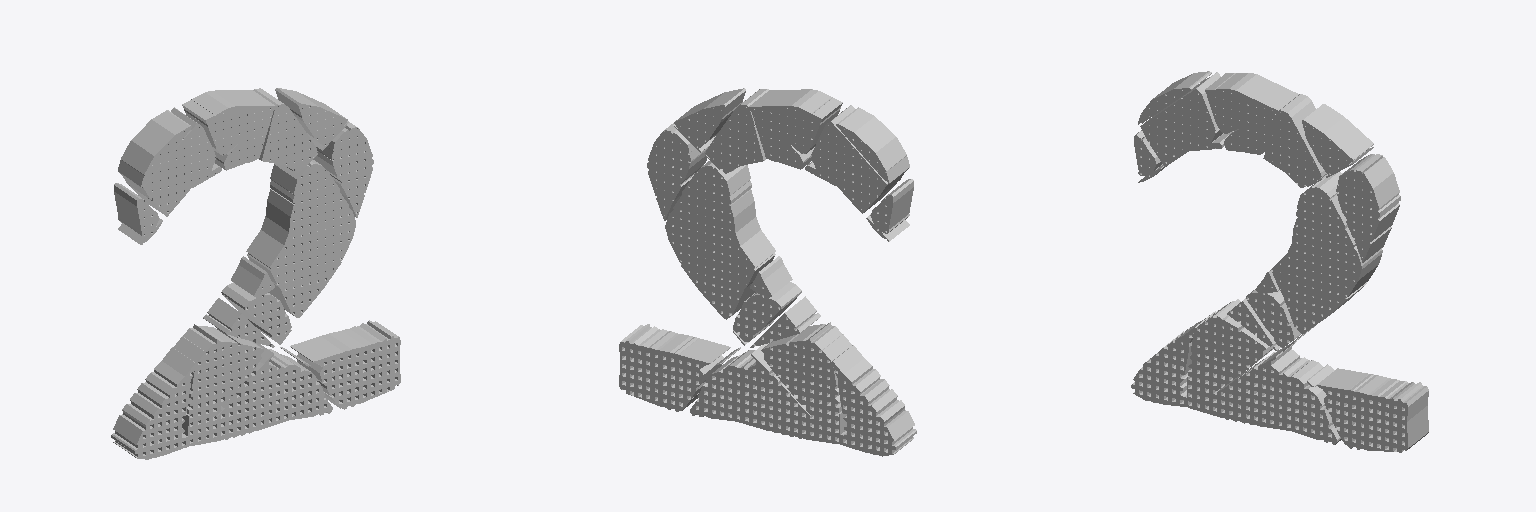
File: 2_naranja.obj
3 renders of one model, left to right at view 1: azimuth 30°, elevation 25°; view 2: azimuth 150°, elevation 25°; view 3: azimuth 330°, elevation 25°, orthographic.
Visible parts, largest first — view 1: Mesh10 G_2_1 Model, Mesh7 G_2_1 Model, Mesh1 G_2_1 Model, Mesh13 G_2_1 Model, Mesh2 G_2_1 Model, Mesh8 G_2_1 Model, Mesh5 G_2_1 Model, Mesh3 G_2_1 Model, Mesh4 G_2_1 Model, Mesh6 G_2_1 Model, Mesh9 G_2_1 Model; view 2: Mesh10 G_2_1 Model, Mesh7 G_2_1 Model, Mesh1 G_2_1 Model, Mesh13 G_2_1 Model, Mesh2 G_2_1 Model, Mesh5 G_2_1 Model, Mesh8 G_2_1 Model, Mesh3 G_2_1 Model, Mesh4 G_2_1 Model, Mesh6 G_2_1 Model, Mesh9 G_2_1 Model; view 3: Mesh10 G_2_1 Model, Mesh7 G_2_1 Model, Mesh1 G_2_1 Model, Mesh13 G_2_1 Model, Mesh5 G_2_1 Model, Mesh2 G_2_1 Model, Mesh4 G_2_1 Model, Mesh8 G_2_1 Model, Mesh3 G_2_1 Model, Mesh6 G_2_1 Model, Mesh9 G_2_1 Model.
Boxes of the visible parts, box(x1,y1,x2,y2) form: Mesh10 G_2_1 Model: box(111, 324, 332, 459); Mesh7 G_2_1 Model: box(246, 160, 355, 317); Mesh1 G_2_1 Model: box(182, 88, 317, 172); Mesh13 G_2_1 Model: box(290, 320, 400, 409); Mesh2 G_2_1 Model: box(121, 107, 221, 216); Mesh8 G_2_1 Model: box(221, 256, 291, 340); Mesh5 G_2_1 Model: box(313, 121, 373, 217); Mesh3 G_2_1 Model: box(118, 110, 191, 187); Mesh4 G_2_1 Model: box(275, 88, 348, 150); Mesh6 G_2_1 Model: box(114, 183, 162, 244); Mesh9 G_2_1 Model: box(203, 298, 270, 345); Mesh10 G_2_1 Model: box(690, 322, 916, 456); Mesh7 G_2_1 Model: box(665, 161, 775, 319); Mesh1 G_2_1 Model: box(705, 89, 842, 173); Mesh13 G_2_1 Model: box(619, 324, 730, 411); Mesh2 G_2_1 Model: box(805, 105, 905, 213); Mesh5 G_2_1 Model: box(647, 123, 708, 220); Mesh8 G_2_1 Model: box(733, 256, 801, 341); Mesh3 G_2_1 Model: box(836, 107, 909, 183); Mesh4 G_2_1 Model: box(673, 88, 745, 152); Mesh6 G_2_1 Model: box(866, 179, 913, 241); Mesh9 G_2_1 Model: box(754, 296, 820, 345); Mesh10 G_2_1 Model: box(1131, 299, 1341, 444); Mesh7 G_2_1 Model: box(1272, 172, 1382, 333); Mesh1 G_2_1 Model: box(1205, 73, 1327, 187); Mesh13 G_2_1 Model: box(1317, 368, 1428, 452); Mesh5 G_2_1 Model: box(1336, 154, 1400, 262); Mesh2 G_2_1 Model: box(1140, 72, 1233, 166); Mesh4 G_2_1 Model: box(1302, 104, 1373, 177); Mesh8 G_2_1 Model: box(1246, 269, 1300, 347); Mesh3 G_2_1 Model: box(1138, 71, 1211, 124); Mesh6 G_2_1 Model: box(1134, 130, 1166, 182); Mesh9 G_2_1 Model: box(1227, 298, 1275, 346).
Size of the model in its own units: 71.02 by 82.57 by 12.47.